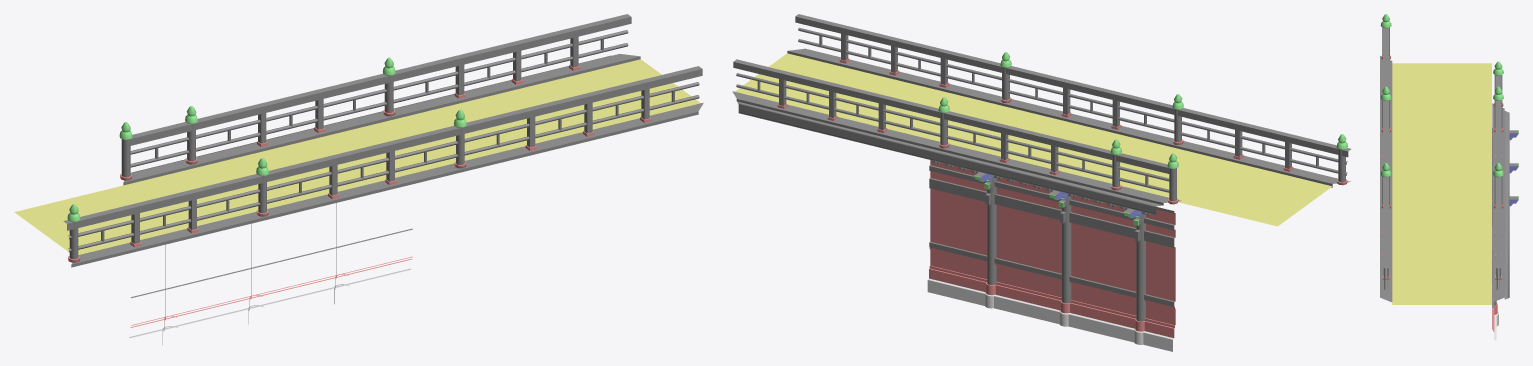
Rendered from SM_ENV_KNVLLG03_Bridge_ConnectorA.gltf.
The picture shows the model from 3 angles, left to right: view 1: azimuth 30°, elevation 25°; view 2: azimuth 150°, elevation 25°; view 3: azimuth 270°, elevation 25°; orthographic projection. The views are drawn at different scales.
Visible parts, largest first — view 1: SM_ENV_KNVLLG03_Bridge_ConnectorA; view 2: SM_ENV_KNVLLG03_Bridge_ConnectorA; view 3: SM_ENV_KNVLLG03_Bridge_ConnectorA.
Part boxes in pixels (x1,y1,x2,y2): SM_ENV_KNVLLG03_Bridge_ConnectorA: (14,14,703,345); SM_ENV_KNVLLG03_Bridge_ConnectorA: (732,14,1351,351); SM_ENV_KNVLLG03_Bridge_ConnectorA: (1380,14,1518,340).
Size of the model in its own units: 24.48 by 8.33 by 5.8.
